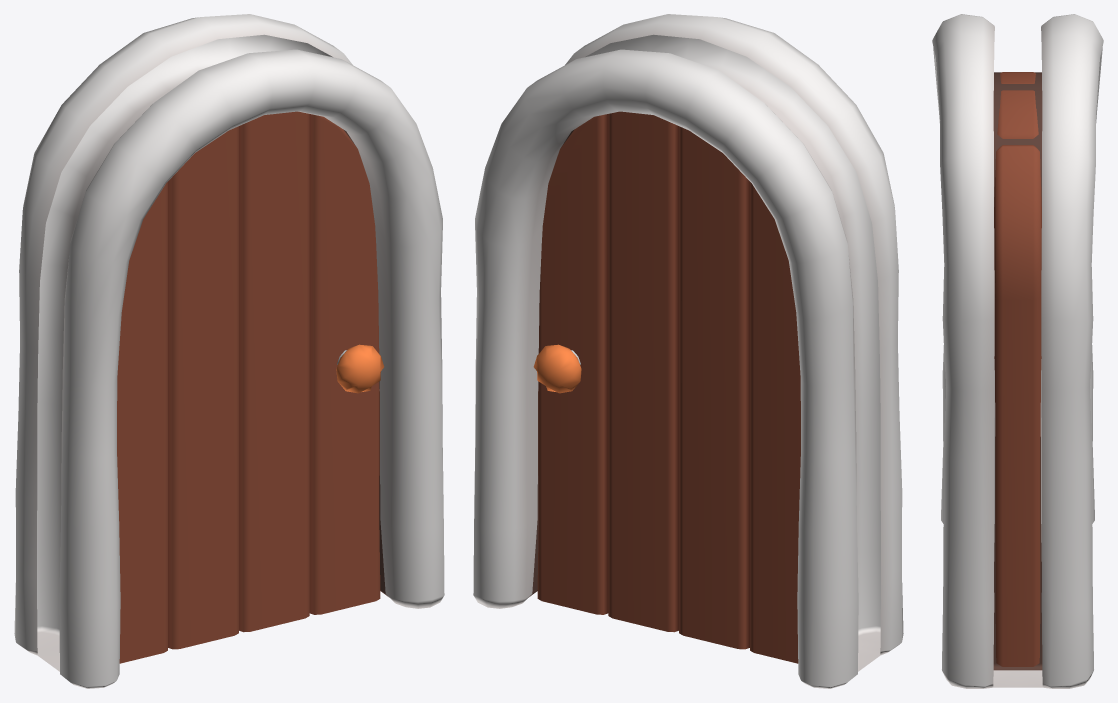
The model's file is Doorway_001.glb.
3 renders of one model, left to right at view 1: azimuth 30°, elevation 25°; view 2: azimuth 150°, elevation 25°; view 3: azimuth 270°, elevation 25°, orthographic. The views are drawn at different scales.
Parts seen in each view (by area): view 1: Door_001, Doorway_001; view 2: Door_001, Doorway_001; view 3: Doorway_001, Door_001.
Part boxes in pixels (x1,y1,x2,y2): Door_001: (117, 111, 384, 663); Doorway_001: (14, 14, 444, 688); Door_001: (533, 111, 800, 663); Doorway_001: (473, 14, 903, 688); Doorway_001: (932, 14, 1103, 688); Door_001: (994, 72, 1041, 666).
Bounding box in the file's own units: 1.63 × 2.44 × 0.6651.
2 materials, 2 textured.
